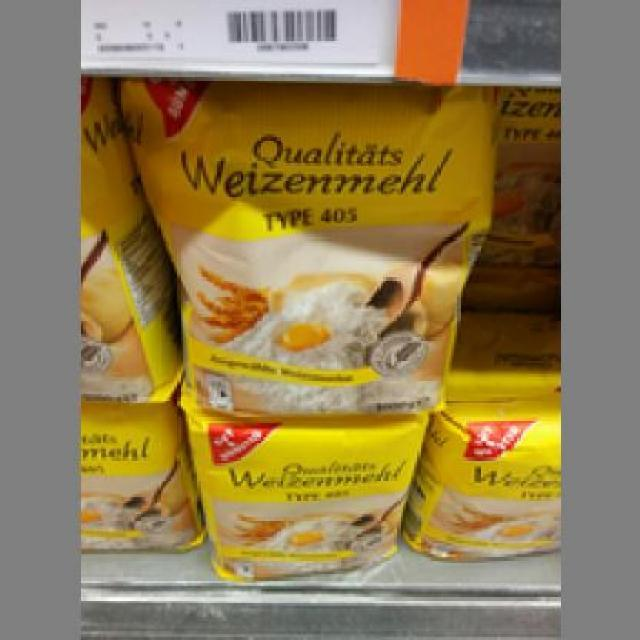Flour: (117, 73, 486, 410), (171, 389, 426, 580), (400, 377, 554, 557)
